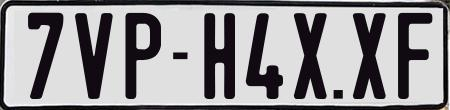4: (244, 13, 286, 100)
7: (27, 11, 67, 100)
F: (397, 11, 431, 98)
H: (204, 12, 237, 100)
P: (125, 13, 163, 102)
V: (75, 12, 117, 101)
X: (352, 13, 388, 101), (292, 13, 325, 102)
